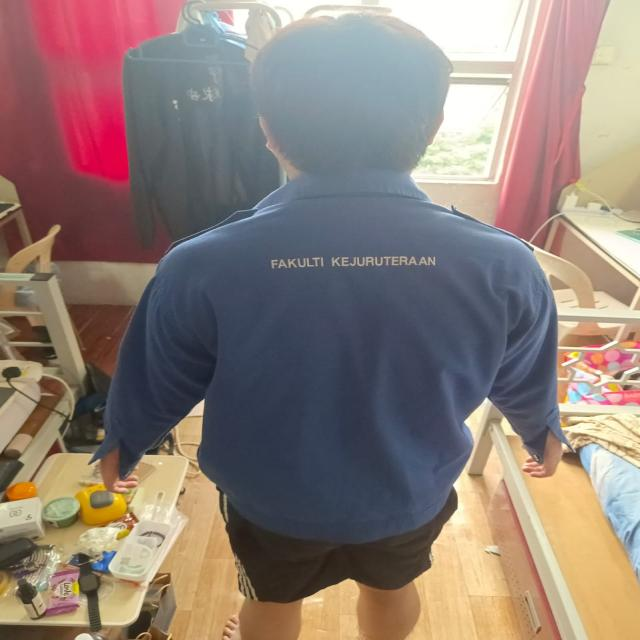person_with_labcoat: (94, 14, 563, 640)
